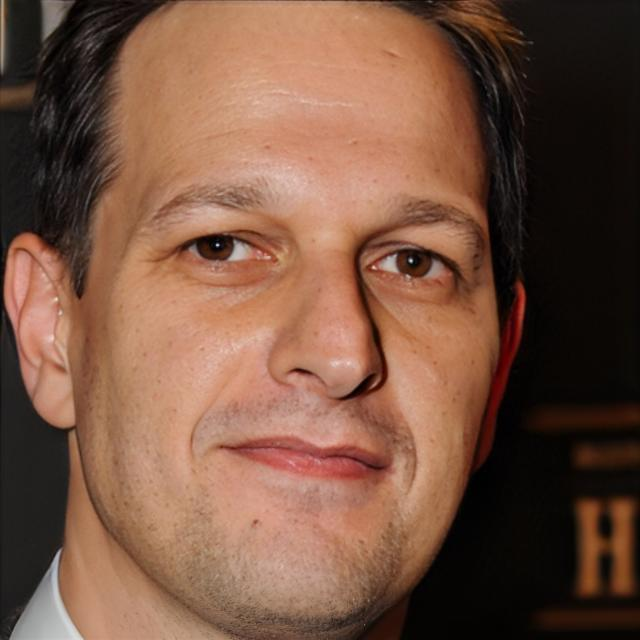content: (74, 2, 502, 637)
